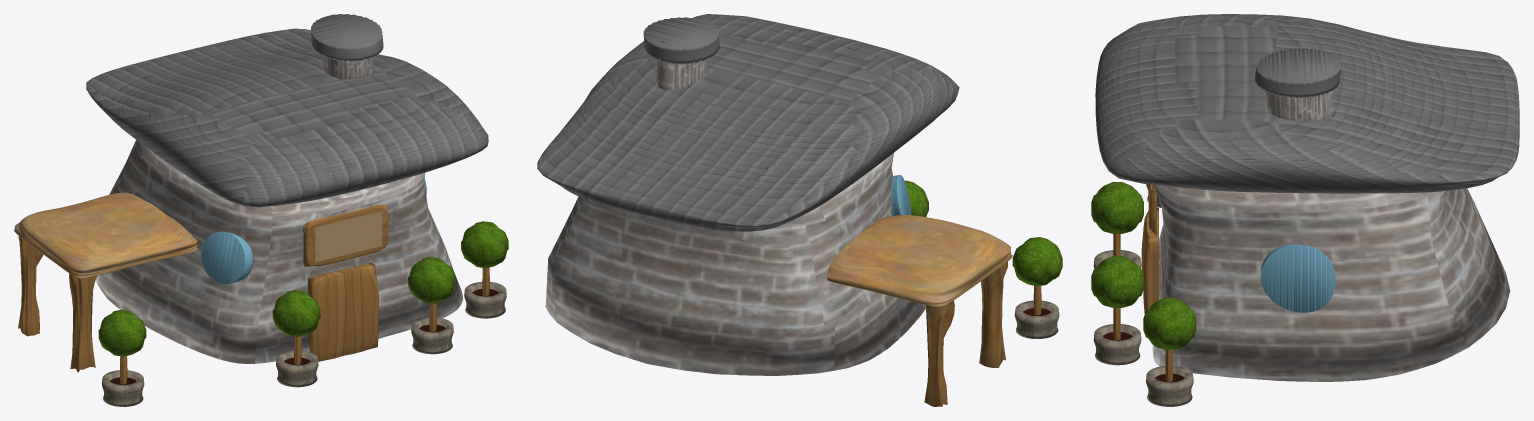
3 views of the same model, side by side, from view 1: azimuth 30°, elevation 25°; view 2: azimuth 150°, elevation 25°; view 3: azimuth 270°, elevation 25° (orthographic). The views are drawn at different scales.
Parts seen in each view (by area): view 1: Cube.029, Cylinder.034, Cube.031, Cube.030, Cylinder.033, Plane.009, Cylinder.035, Cube.032, Mball.016, Mball.018, Mball.017, Mball.015 (+7 smaller); view 2: Cube.029, Cylinder.034, Cube.031, Cylinder.033, Cube.032, Cube.033, Mball.016, Cylinder.042, Cylinder.032, Cylinder.035, Mball.018; view 3: Cube.029, Cylinder.034, Cylinder.036, Cylinder.033, Mball.015, Mball.017, Mball.018, Cylinder.044, Cylinder.039, Cylinder.032, Cube.030, Cube.028.
Part boxes in pixels (x1,y1,x2,y2): Cube.029: (86, 28, 488, 207); Cylinder.034: (96, 140, 462, 363); Cube.031: (14, 192, 197, 278); Cube.030: (307, 262, 378, 361); Cylinder.033: (310, 14, 383, 61); Plane.009: (315, 211, 381, 262); Cylinder.035: (201, 231, 253, 284); Cube.032: (69, 273, 96, 372); Mball.016: (98, 309, 146, 356); Mball.018: (272, 290, 320, 336); Mball.017: (408, 257, 455, 303); Mball.015: (461, 221, 508, 267); Cube.029: (537, 14, 959, 231); Cylinder.034: (545, 153, 925, 375); Cube.031: (826, 215, 1012, 306); Cylinder.033: (643, 17, 719, 64); Cube.032: (979, 261, 1007, 367); Cube.033: (924, 300, 954, 406); Mball.016: (1012, 237, 1062, 286); Cylinder.042: (1014, 300, 1059, 338); Cylinder.032: (656, 41, 709, 89); Cylinder.035: (891, 175, 911, 215); Mball.018: (905, 180, 928, 216); Cube.029: (1095, 14, 1519, 193); Cylinder.034: (1152, 184, 1510, 381); Cylinder.036: (1260, 244, 1335, 312); Cylinder.033: (1254, 48, 1341, 97); Mball.015: (1143, 297, 1196, 349); Mball.017: (1091, 256, 1143, 307); Mball.018: (1091, 182, 1143, 233); Cylinder.044: (1093, 324, 1141, 365); Cylinder.039: (1146, 365, 1193, 406); Cylinder.032: (1266, 63, 1334, 120); Cube.030: (1141, 207, 1158, 314); Cube.028: (1148, 184, 1156, 235).
Bounding box in the file's own units: 11.83 × 7.36 × 9.71.
Materials: 11 (10 with a texture image).
